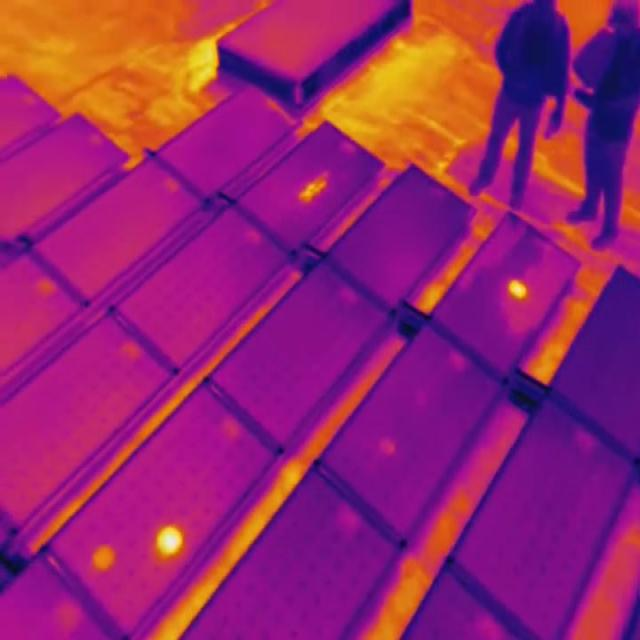Orange-Spots: (298, 166, 328, 207), (157, 524, 186, 558), (93, 541, 116, 577), (506, 272, 530, 302), (380, 433, 400, 462)
